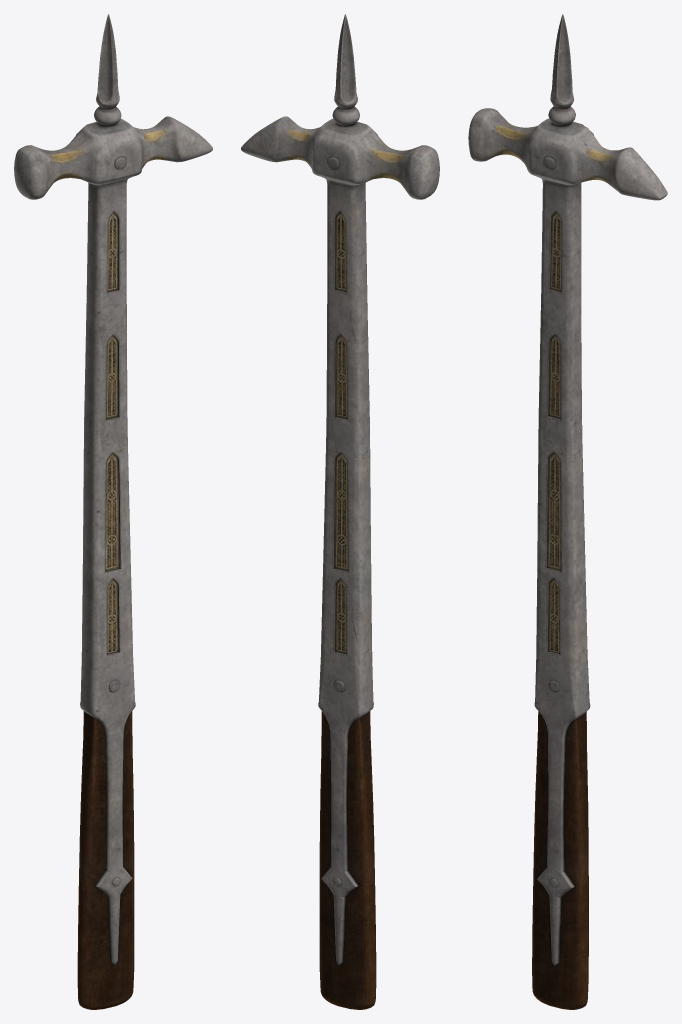
Rendered from cc0_warhammer.glb.
The picture shows the model from 3 angles, left to right: view 1: azimuth 30°, elevation 25°; view 2: azimuth 150°, elevation 25°; view 3: azimuth 330°, elevation 25°; orthographic projection.
Parts seen in each view (by area): view 1: ornate_war_hammer; view 2: ornate_war_hammer; view 3: ornate_war_hammer.
Boxes of the visible parts, bbox=[...] form: ornate_war_hammer: bbox=[14, 14, 212, 1009]; ornate_war_hammer: bbox=[241, 14, 439, 1009]; ornate_war_hammer: bbox=[468, 14, 667, 1009].
Bounding box in the file's own units: 0.1441 × 0.7112 × 0.0348.
Materials: 1 (1 with a texture image).
